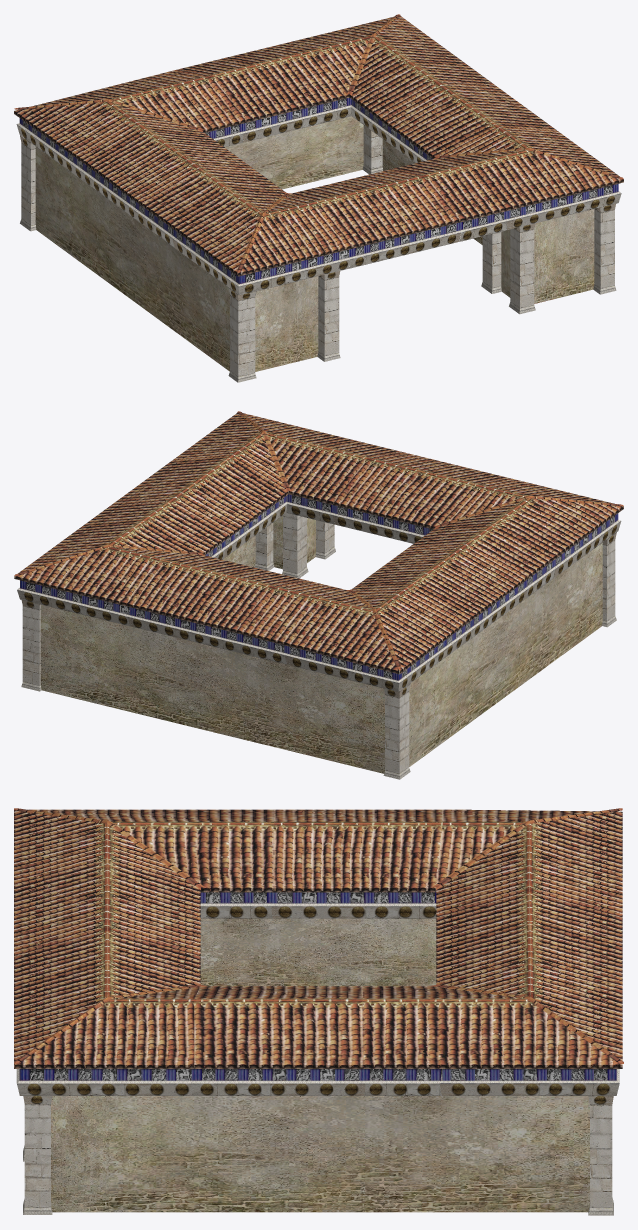
File: hele_gym.dae
3 renders of one model, top to bottom at view 1: azimuth 30°, elevation 25°; view 2: azimuth 150°, elevation 25°; view 3: azimuth 270°, elevation 25°, orthographic. The views are drawn at different scales.
Parts seen in each view (by area): view 1: stoa_005; view 2: stoa_005; view 3: stoa_005.
Part boxes in pixels (x1,y1,x2,y2): stoa_005: [14, 14, 623, 382]; stoa_005: [14, 411, 623, 779]; stoa_005: [14, 808, 623, 1215].
Bounding box in the file's own units: 25.19 × 8.34 × 25.42.
